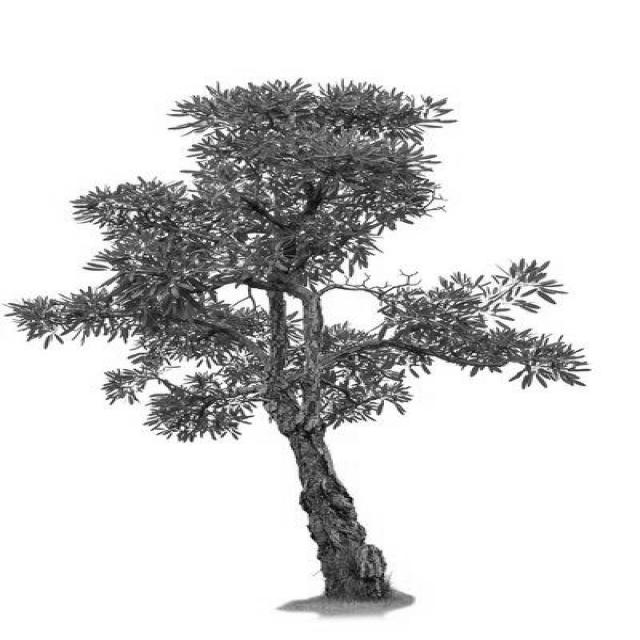Tree: (9, 80, 588, 601)
